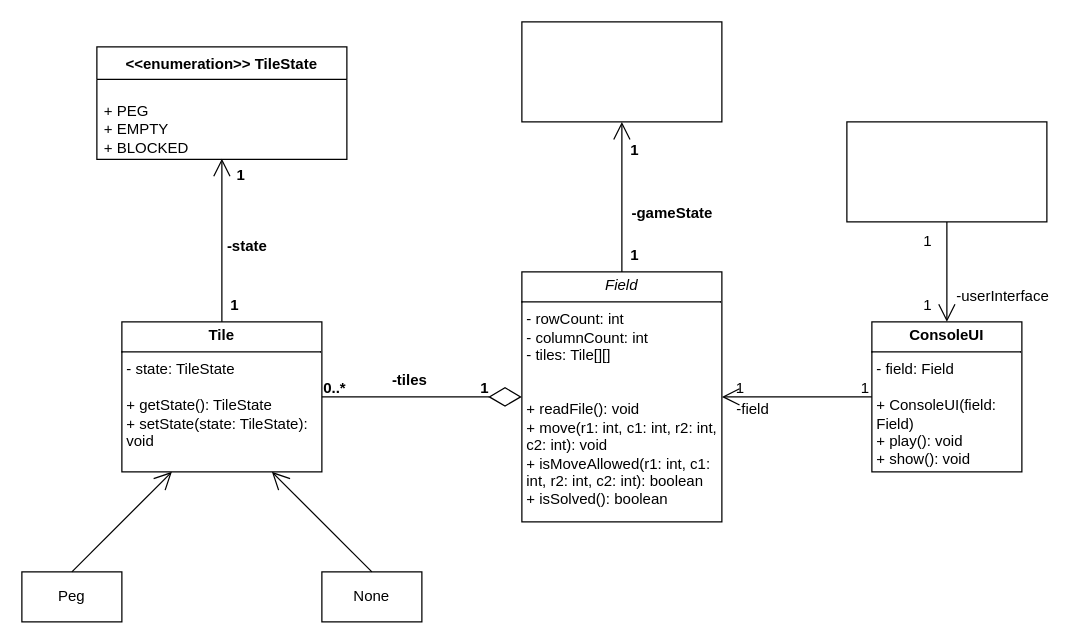
This 1081x644 diagram has some shape labels left out. The shapes that lost their labels are listed below. From the top down, each one's centre as x and y in pixels, then its label:
pixel 621 71: Game state +PLAYING +SOLVED +FAILED
pixel 946 171: Peg Solitaire + main(args: String[]): void
